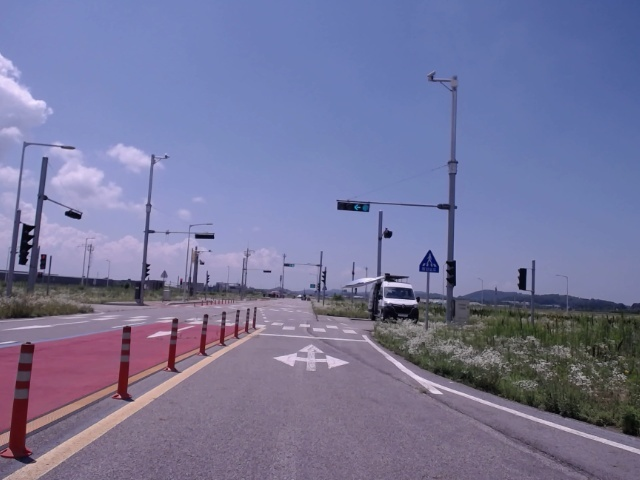all_green_4: (334, 199, 371, 212)
